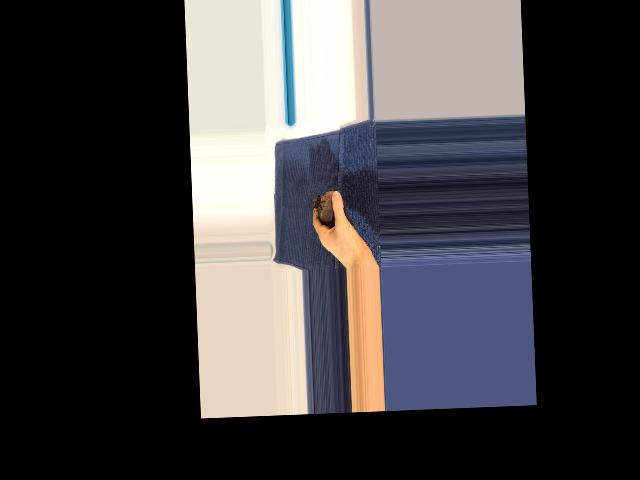beet: (313, 189, 357, 227)
